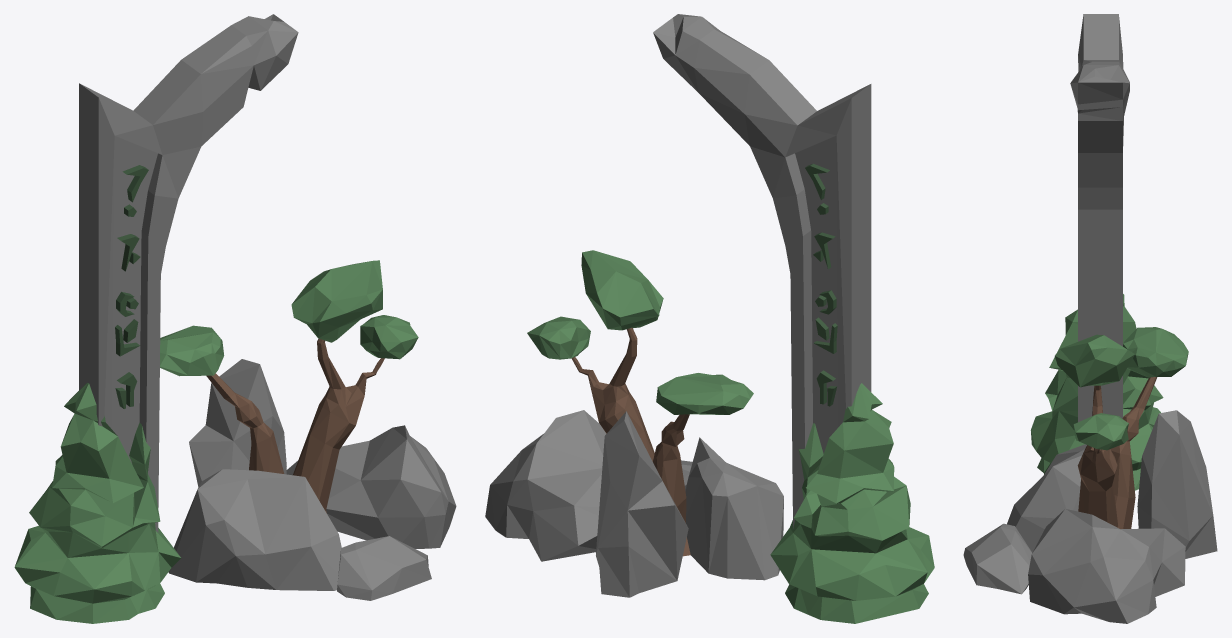
The model's file is _sculpture_8.fbx.
3 views of the same model, side by side, from view 1: azimuth 30°, elevation 25°; view 2: azimuth 150°, elevation 25°; view 3: azimuth 270°, elevation 25° (orthographic). The views are drawn at different scales.
Parts seen in each view (by area): view 1: sculpture_8; view 2: sculpture_8; view 3: sculpture_8.
Part boxes in pixels (bbox=[...]): sculpture_8: bbox=[14, 14, 456, 623]; sculpture_8: bbox=[485, 14, 934, 623]; sculpture_8: bbox=[963, 14, 1217, 623].
Bounding box in the file's own units: 248 × 291 × 141.
